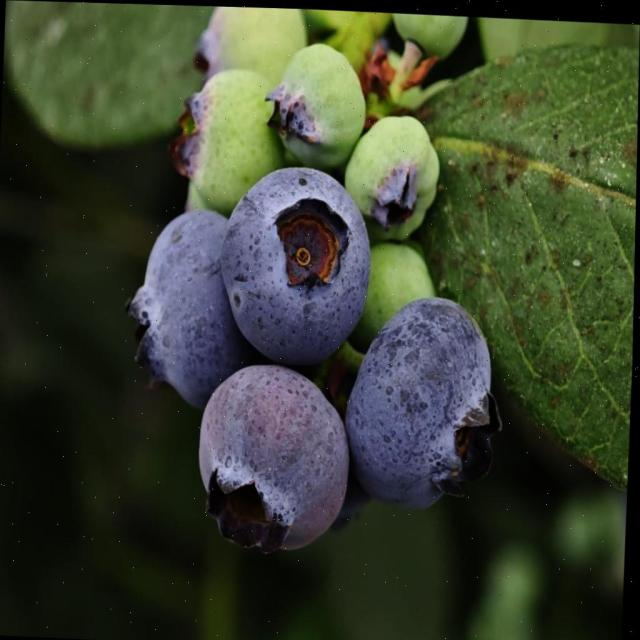RipeBlueBerry: (344, 292, 498, 509), (190, 363, 354, 556), (218, 162, 374, 362)
UnripeBlueBerry: (273, 37, 365, 167)
